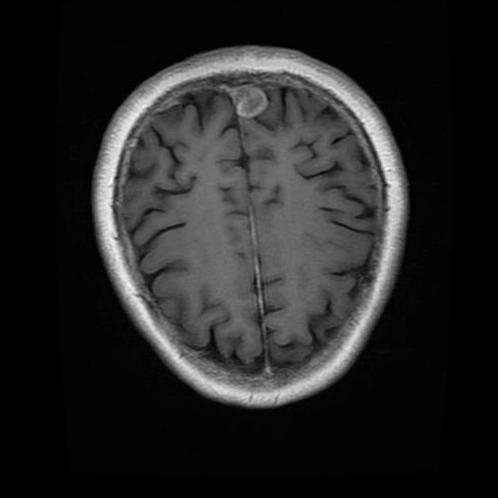Tumour-Meningioma: (220, 76, 275, 130)
